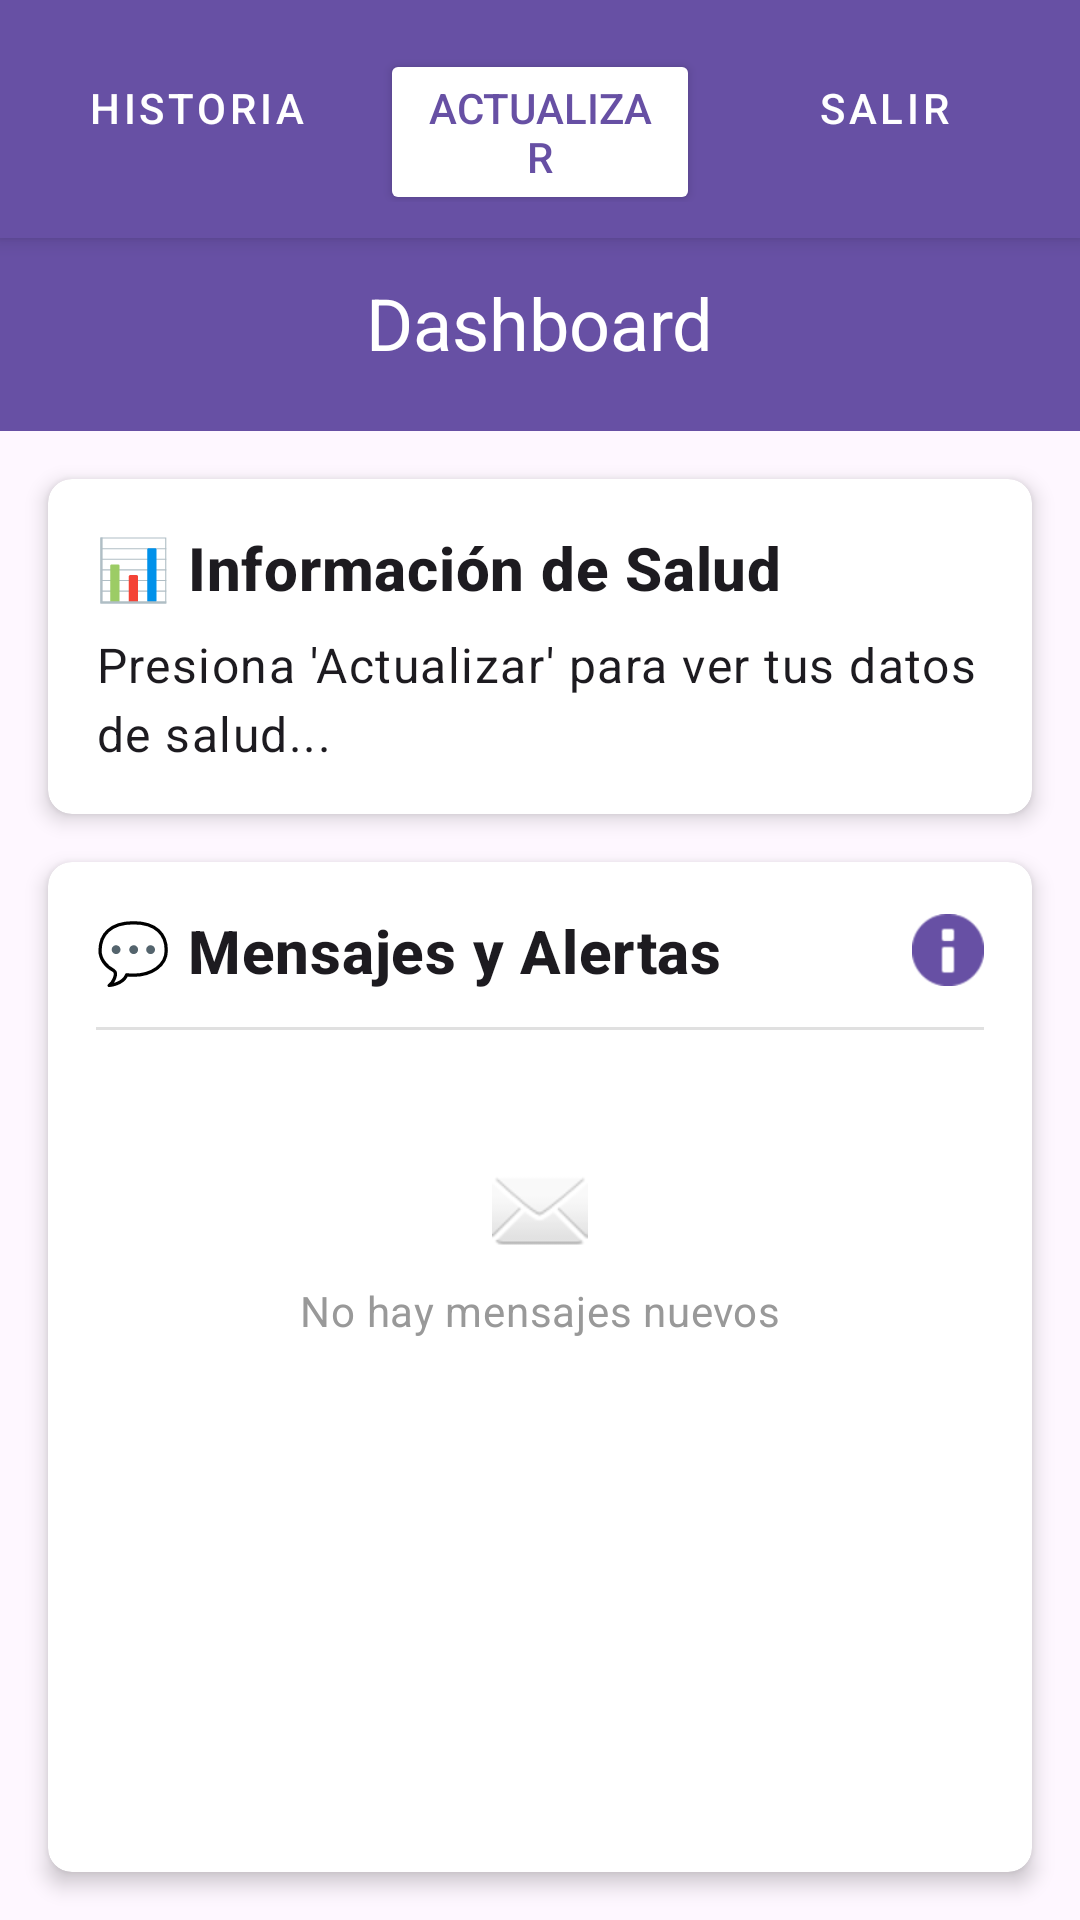

Screen size 1080w x 1920h. Icon name, then its center in pixels as [x,y]:
info: [948,950]
